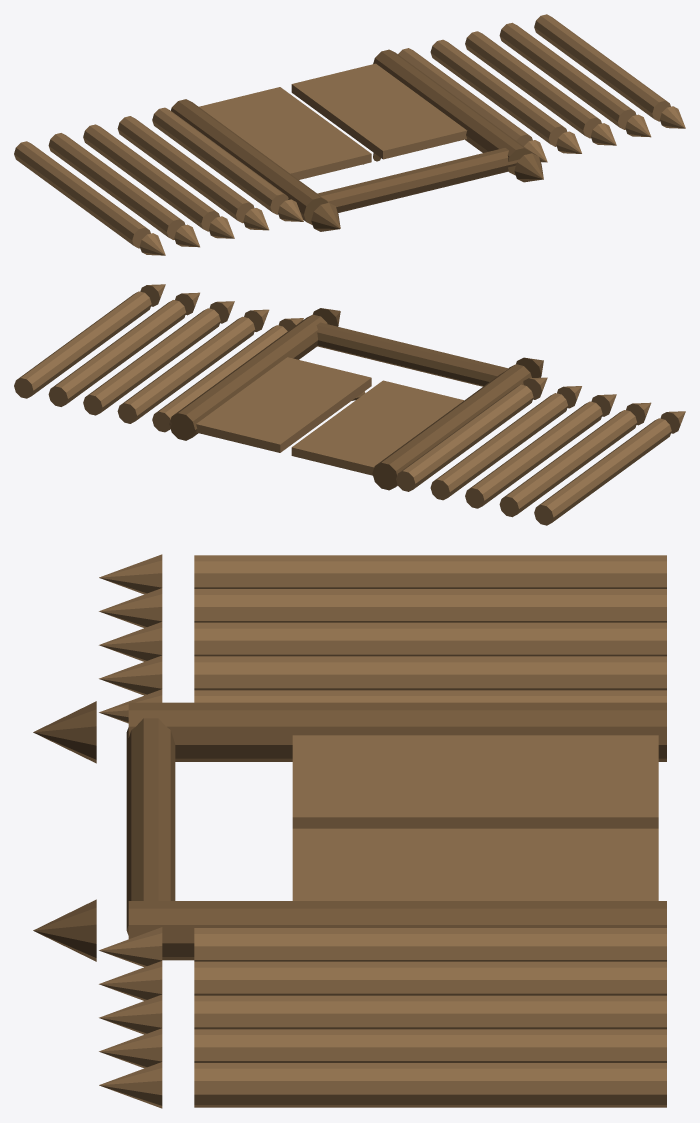
The model's file is palisade_gate.glb.
3 renders of one model, top to bottom at view 1: azimuth 30°, elevation 25°; view 2: azimuth 150°, elevation 25°; view 3: azimuth 270°, elevation 25°, orthographic. The views are drawn at different scales.
Parts seen in each view (by area): view 1: world; view 2: world; view 3: world.
Part boxes in pixels (x1,y1,x2,y2): world: (14,14,685,255); world: (14,284,685,525); world: (33,554,666,1108).
Bounding box in the file's own units: 6.65 × 0.3196 × 3.38.
